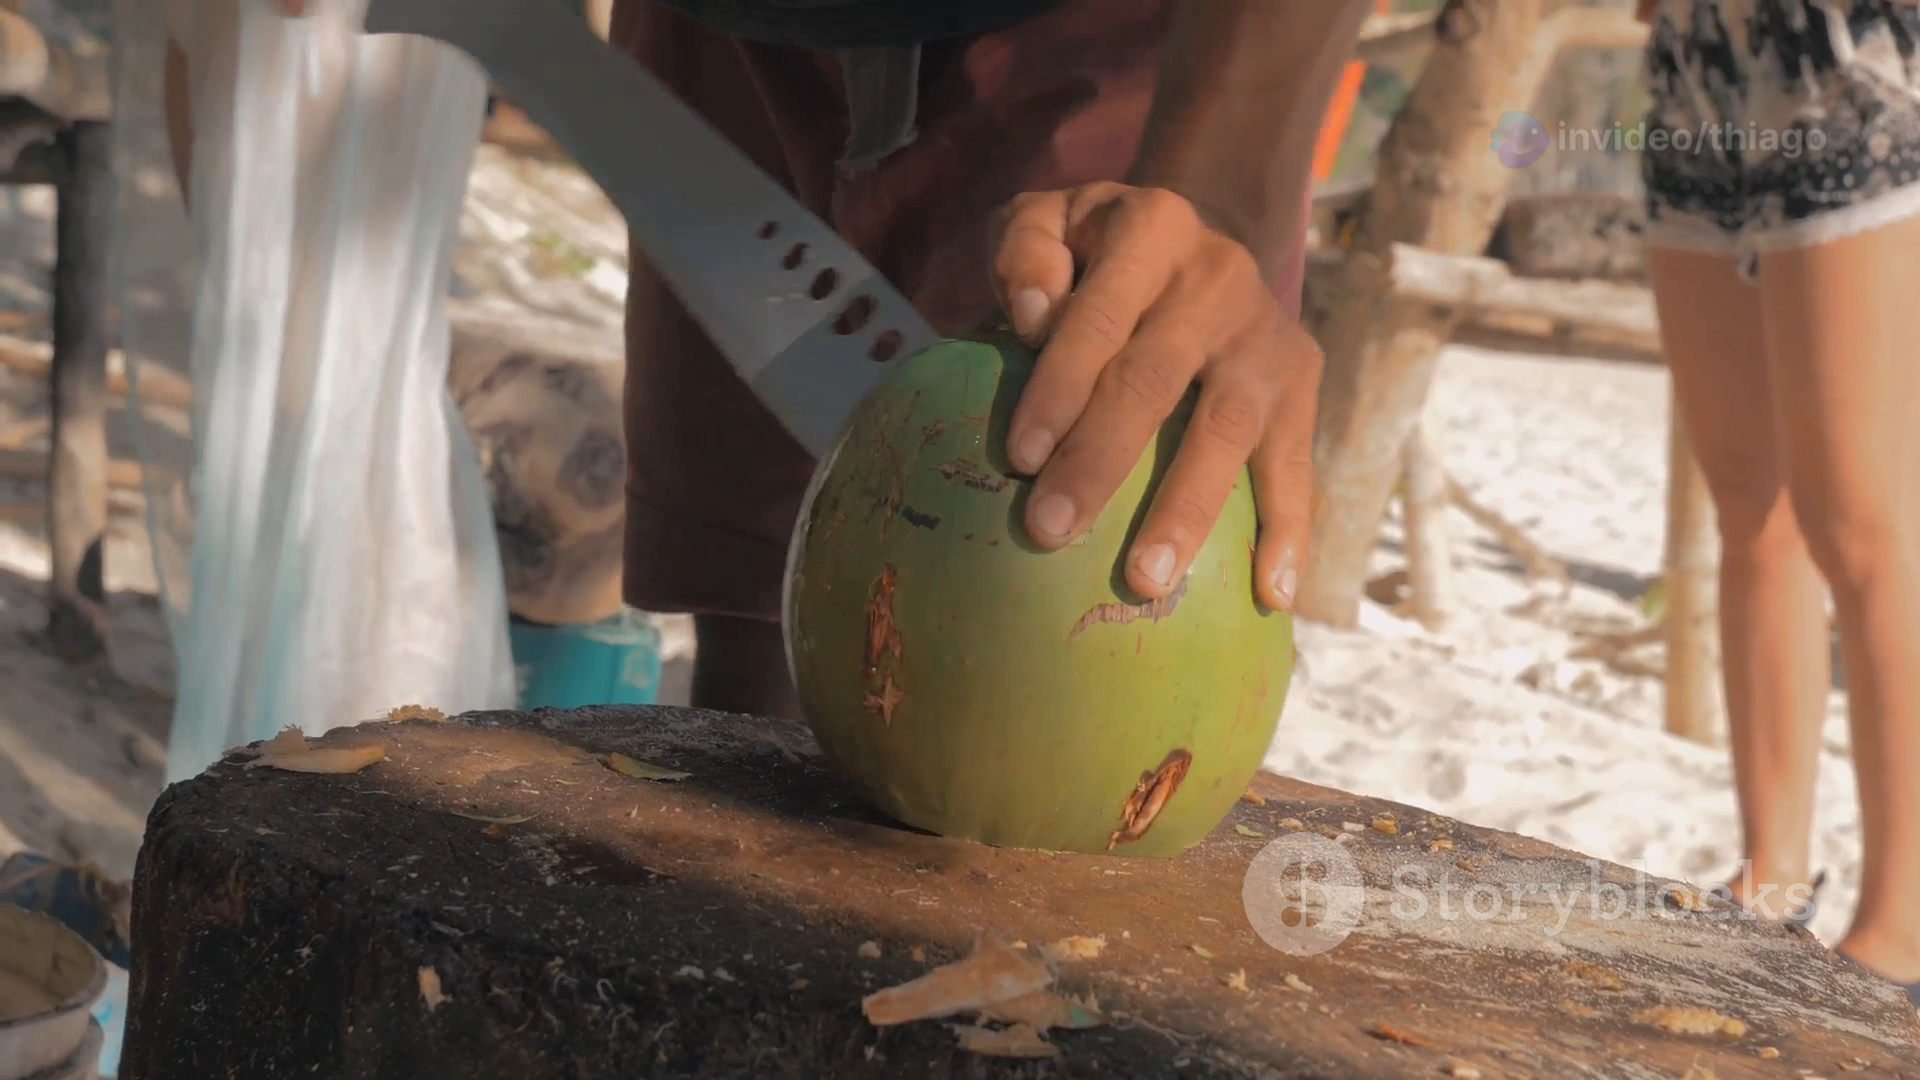cortante: (360, 0, 940, 467)
